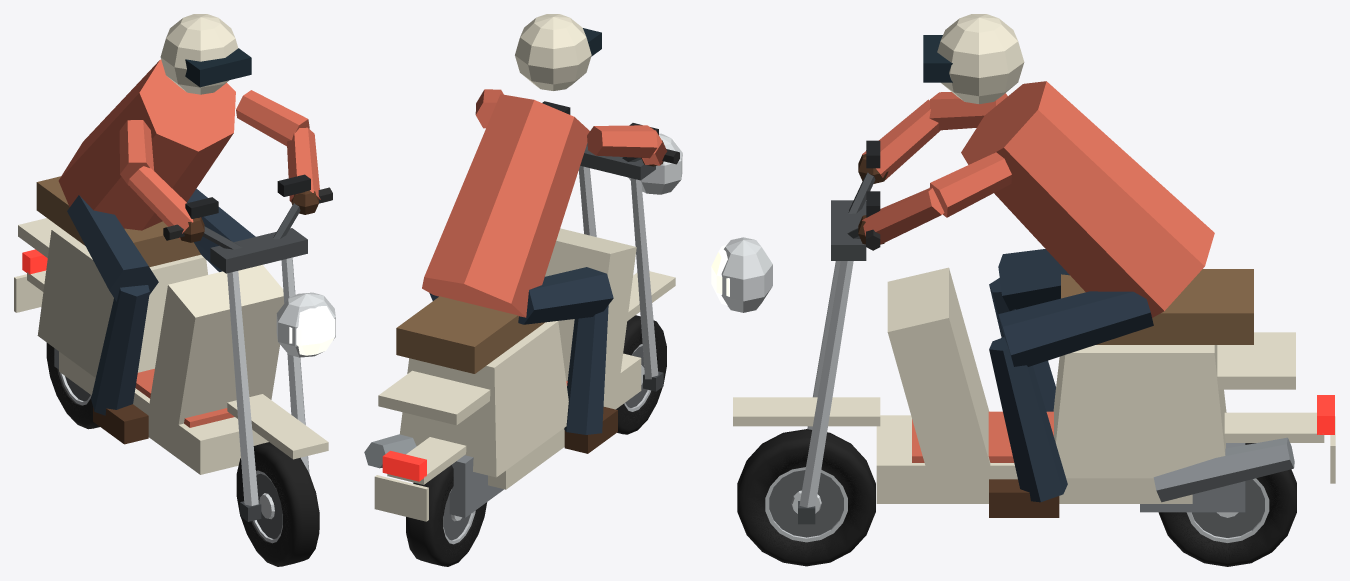
The model's file is daisy-scooter.glb.
The picture shows the model from 3 angles, left to right: view 1: azimuth 30°, elevation 25°; view 2: azimuth 150°, elevation 25°; view 3: azimuth 270°, elevation 25°; orthographic projection. The views are drawn at different scales.
Parts seen in each view (by area): view 1: rider, frame, fork, wheel_F, headlight, wheel_R, plate_R, taillight; view 2: rider, frame, fork, wheel_R, wheel_F, plate_R, headlight, taillight; view 3: frame, rider, wheel_F, fork, wheel_R, headlight.
Part boxes in pixels (bbox=[...]): rider: bbox=[58, 14, 320, 444]; frame: bbox=[18, 176, 284, 474]; fork: bbox=[163, 174, 332, 521]; wheel_F: bbox=[236, 442, 319, 566]; headlight: bbox=[276, 292, 335, 357]; wheel_R: bbox=[46, 342, 99, 429]; plate_R: bbox=[14, 274, 43, 312]; taillight: bbox=[22, 249, 47, 274]; rider: bbox=[422, 14, 667, 453]; frame: bbox=[364, 228, 641, 517]; fork: bbox=[542, 101, 679, 391]; wheel_R: bbox=[406, 465, 487, 566]; wheel_F: bbox=[616, 315, 666, 434]; plate_R: bbox=[374, 475, 428, 521]; headlight: bbox=[628, 133, 682, 194]; taillight: bbox=[382, 450, 426, 481]; frame: bbox=[876, 267, 1324, 512]; rider: bbox=[858, 14, 1214, 517]; wheel_F: bbox=[737, 429, 875, 566]; fork: bbox=[733, 140, 880, 524]; wheel_R: bbox=[1158, 443, 1296, 566]; headlight: bbox=[711, 237, 772, 312].
Bounding box in the file's own units: 0.6973 × 1.71 × 1.78.
